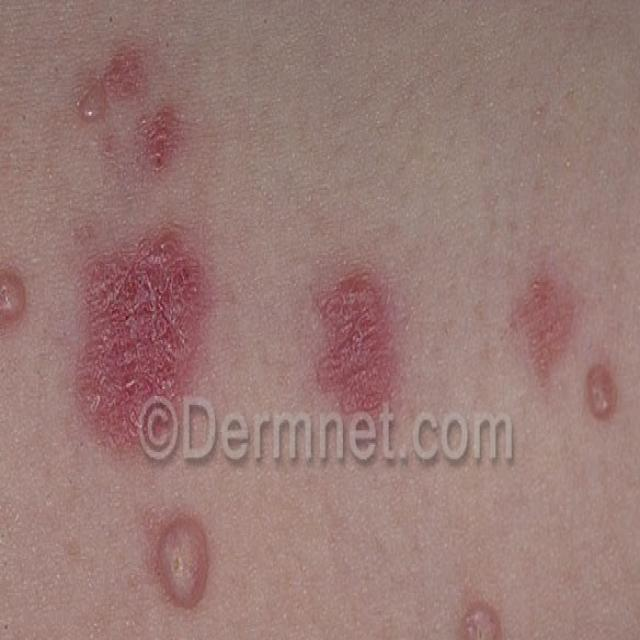Viral Infections: (78, 208, 228, 447), (502, 271, 626, 454), (71, 31, 210, 193), (308, 250, 402, 449), (129, 495, 244, 624), (0, 247, 38, 352), (455, 587, 517, 640)
